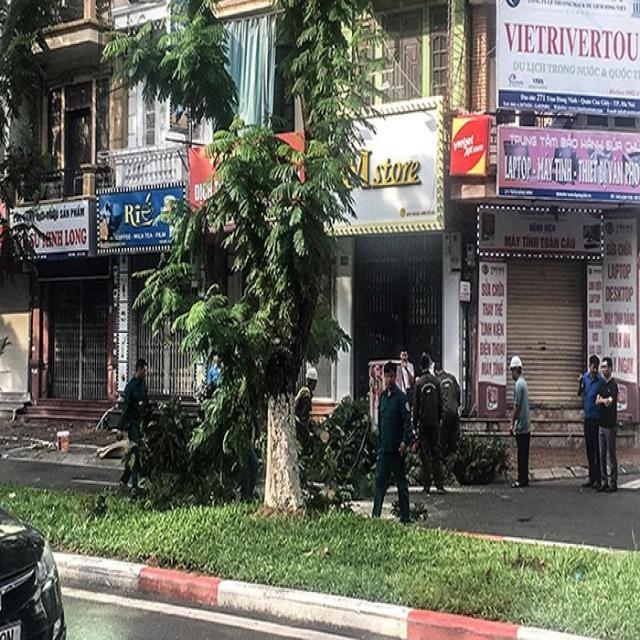fallen_object: (98, 321, 514, 526)
